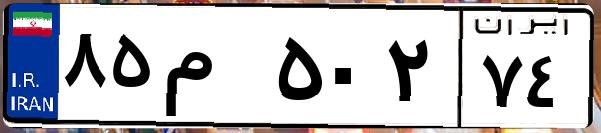0: (330, 28, 385, 110)
2: (385, 28, 445, 110)
4: (525, 38, 570, 115)
5: (270, 28, 330, 110), (110, 28, 158, 98)
7: (475, 38, 525, 113)
8: (57, 26, 110, 100)
م: (158, 20, 270, 120)
